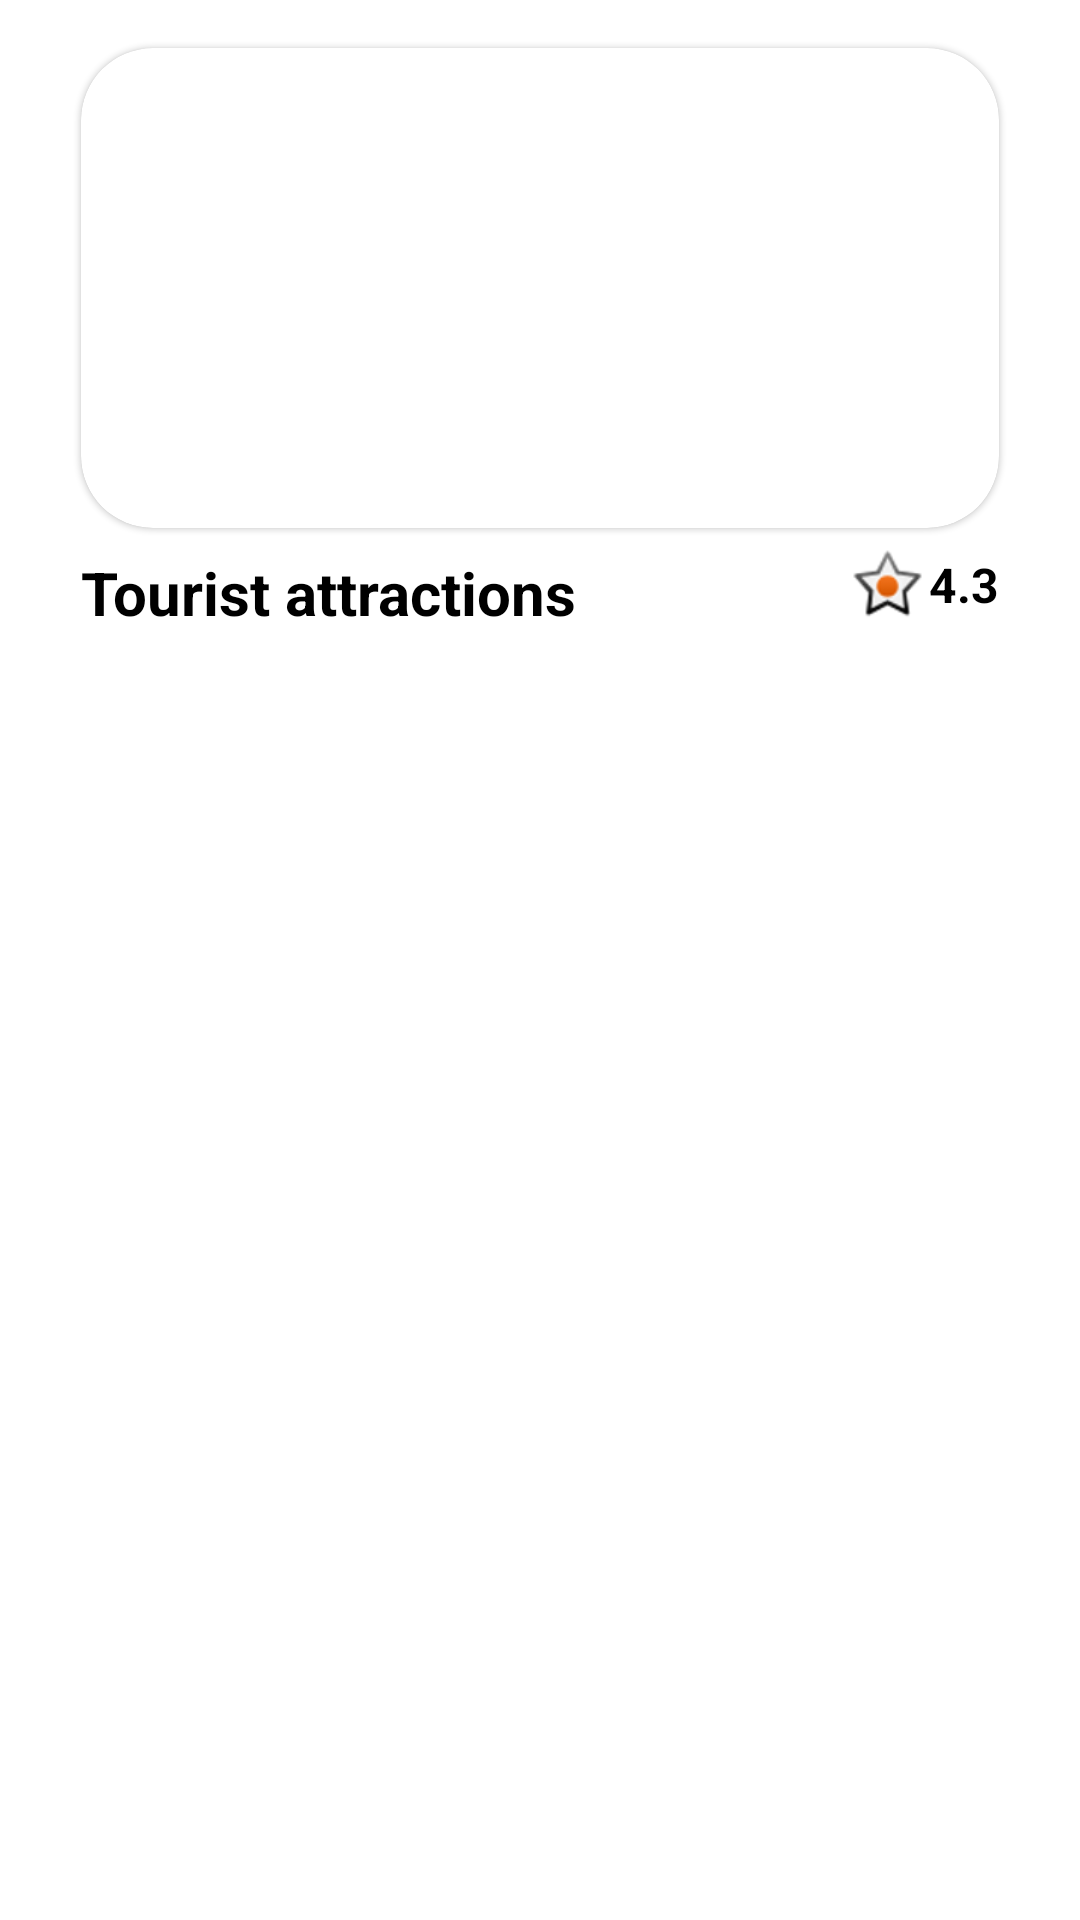

Icon bounding boxes for this 1080x1920 phone screenshot, format (left=x1, top=y1, right=x2, bottom=y2):
star on: (left=853, top=551, right=922, bottom=616)
